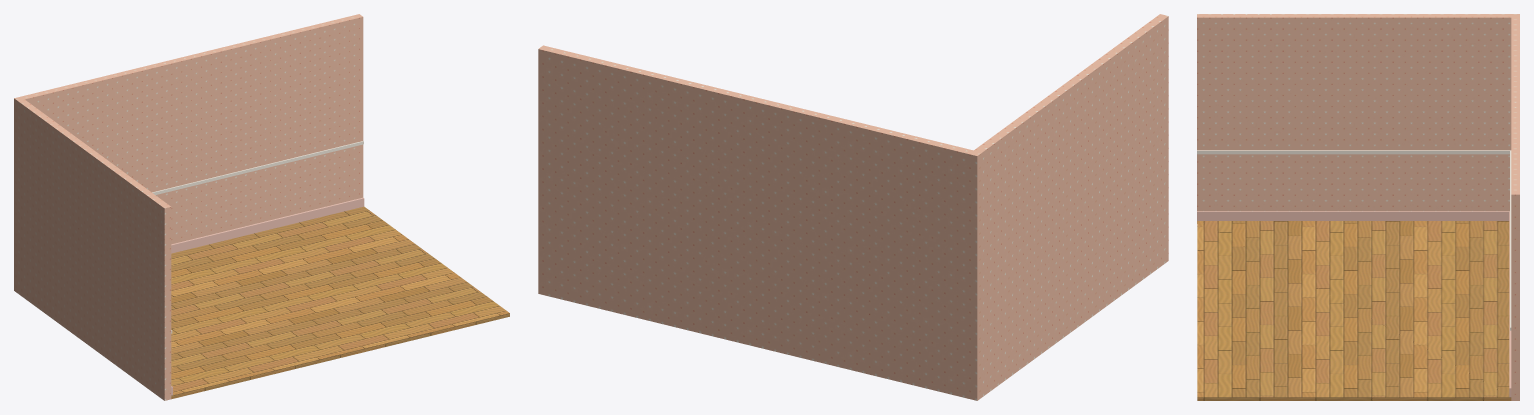
The model's file is room.glb.
The picture shows the model from 3 angles, left to right: view 1: azimuth 30°, elevation 25°; view 2: azimuth 150°, elevation 25°; view 3: azimuth 270°, elevation 25°; orthographic projection. The views are drawn at different scales.
Parts seen in each view (by area): view 1: Wall_Back, Floor, Wall_Left, Baseboard_Back, Trim_Back; view 2: Wall_Back, Wall_Left; view 3: Wall_Left, Floor, Wall_Back, Baseboard_Left, Trim_Left, Trim_Back, Baseboard_Back.
Boxes of the visible parts, bbox=[...] form: Wall_Back: bbox=[21, 14, 363, 244]; Floor: bbox=[171, 206, 509, 399]; Wall_Left: bbox=[14, 96, 171, 400]; Baseboard_Back: bbox=[171, 197, 364, 253]; Trim_Back: bbox=[152, 141, 363, 194]; Wall_Back: bbox=[538, 45, 977, 400]; Wall_Left: bbox=[969, 14, 1168, 400]; Wall_Left: bbox=[1197, 14, 1519, 223]; Floor: bbox=[1197, 221, 1511, 400]; Wall_Back: bbox=[1511, 14, 1519, 400]; Baseboard_Left: bbox=[1197, 211, 1509, 220]; Trim_Left: bbox=[1197, 150, 1511, 154]; Trim_Back: bbox=[1510, 151, 1511, 330]; Baseboard_Back: bbox=[1509, 212, 1511, 397].
Bounding box in the file's own units: 6.12 × 3.26 × 4.62.
Materials: 4 (2 with a texture image).
